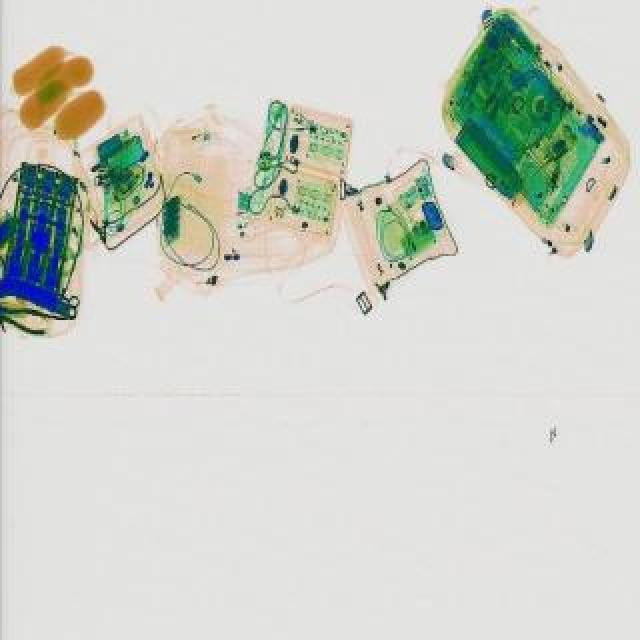scissors: (0, 280, 80, 328)
wrench: (0, 306, 52, 340)
